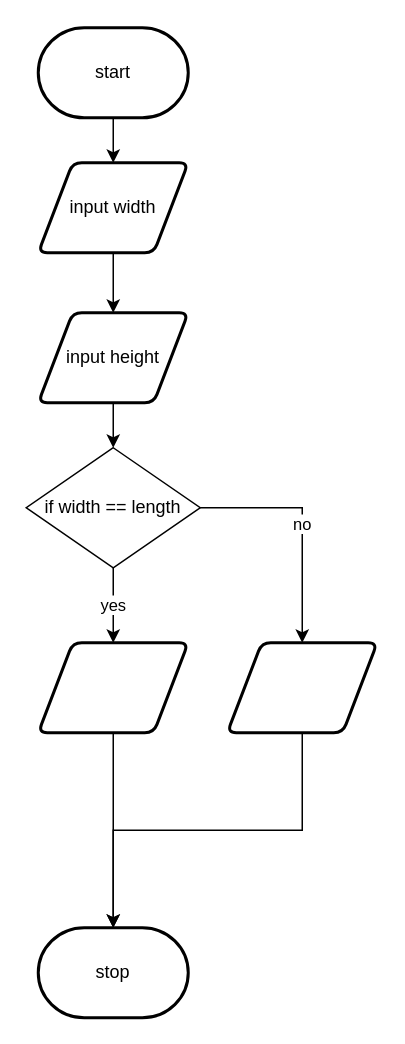
This 405x1044 diagram has some shape labels left out. The centre of each missing label's shape, as x and y in pixels:
"output it is a square" belongs at point (112, 687).
"output it is s rectangle" belongs at point (301, 687).
